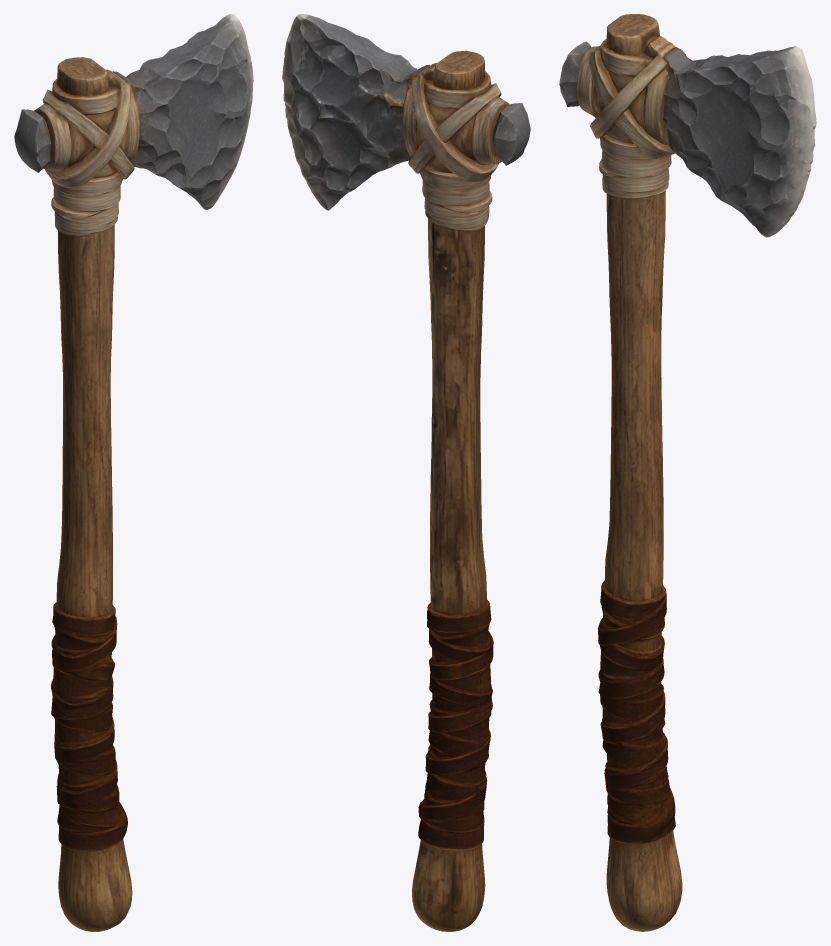
The model's file is stone_axe.glb.
3 views of the same model, side by side, from view 1: azimuth 30°, elevation 25°; view 2: azimuth 150°, elevation 25°; view 3: azimuth 330°, elevation 25° (orthographic). The views are drawn at different scales.
Visible parts, largest first — view 1: Stone Axe Native Mesh; view 2: Stone Axe Native Mesh; view 3: Stone Axe Native Mesh.
Part boxes in pixels (left/top/right/bottom): Stone Axe Native Mesh: left=14, top=14, right=253, bottom=931; Stone Axe Native Mesh: left=282, top=14, right=530, bottom=931; Stone Axe Native Mesh: left=559, top=14, right=816, bottom=931.
Size of the model in its own units: 0.2027 by 0.72 by 0.07.
Materials: 1 (1 with a texture image).
